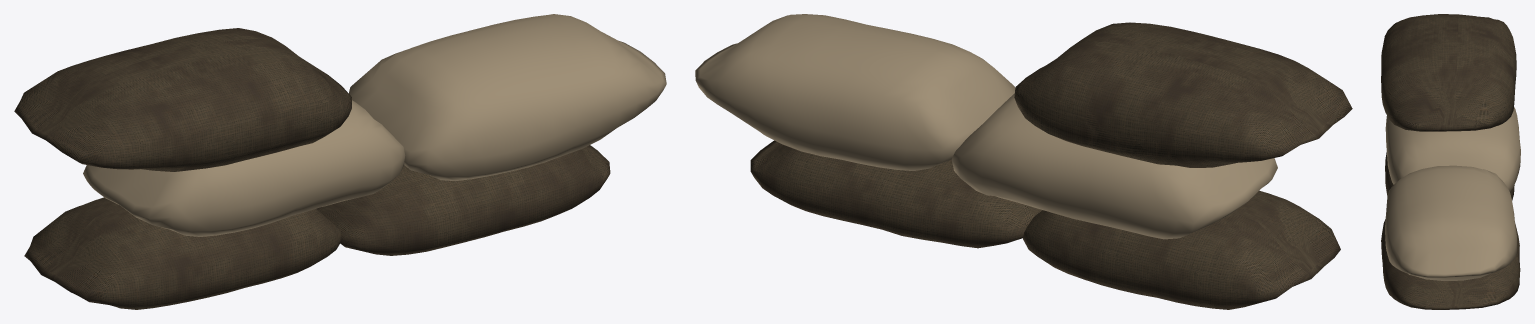
Rendered from S7U_Sandbags_3L_B.fbx.
3 views of the same model, side by side, from view 1: azimuth 30°, elevation 25°; view 2: azimuth 150°, elevation 25°; view 3: azimuth 270°, elevation 25° (orthographic). The views are drawn at different scales.
Parts seen in each view (by area): view 1: S7U_Sandbags_3L_B; view 2: S7U_Sandbags_3L_B; view 3: S7U_Sandbags_3L_B.
Boxes of the visible parts, <box> form: S7U_Sandbags_3L_B: <box>14,14,666,309</box>; S7U_Sandbags_3L_B: <box>695,14,1352,309</box>; S7U_Sandbags_3L_B: <box>1381,14,1520,309</box>.
Bounding box in the file's own units: 1.53 × 0.5247 × 0.4409.
